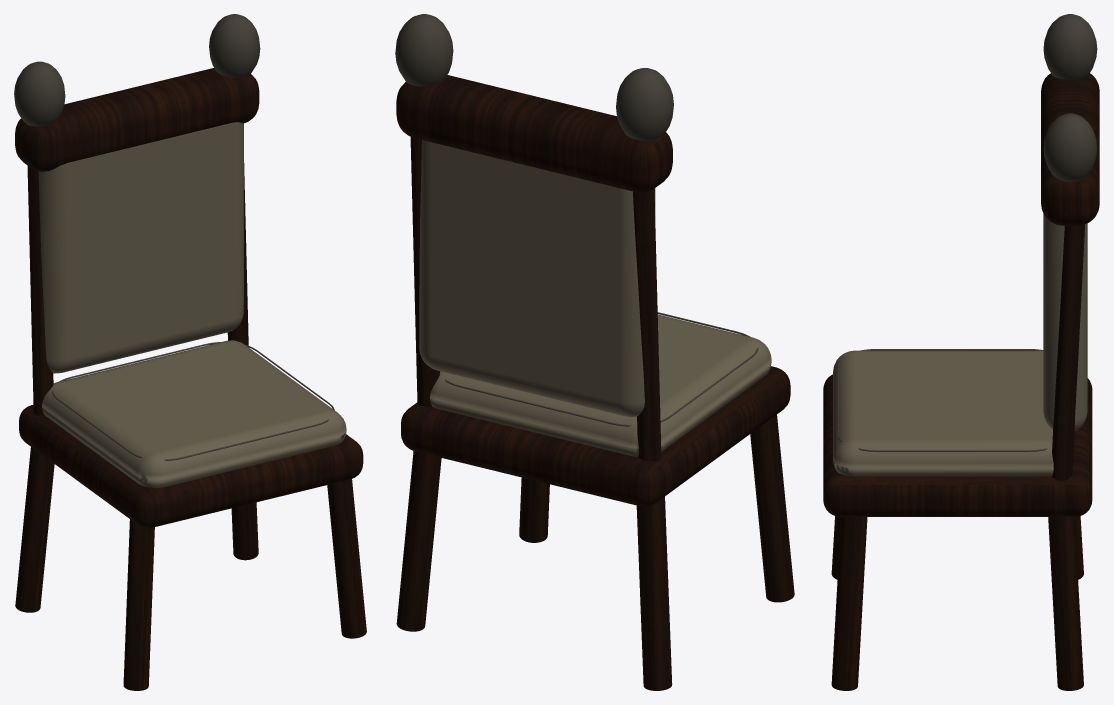
The model's file is chair.glb.
3 views of the same model, side by side, from view 1: azimuth 30°, elevation 25°; view 2: azimuth 150°, elevation 25°; view 3: azimuth 270°, elevation 25° (orthographic). The views are drawn at different scales.
Visible parts, largest first — view 1: pirate-captains-cabin chair; view 2: pirate-captains-cabin chair; view 3: pirate-captains-cabin chair.
Part boxes in pixels (bbox=[...]): pirate-captains-cabin chair: bbox=[14, 14, 366, 690]; pirate-captains-cabin chair: bbox=[395, 14, 794, 690]; pirate-captains-cabin chair: bbox=[823, 14, 1099, 690].
Size of the model in its own units: 0.591 by 1.28 by 0.565.
Materials: 3 (1 with a texture image).
